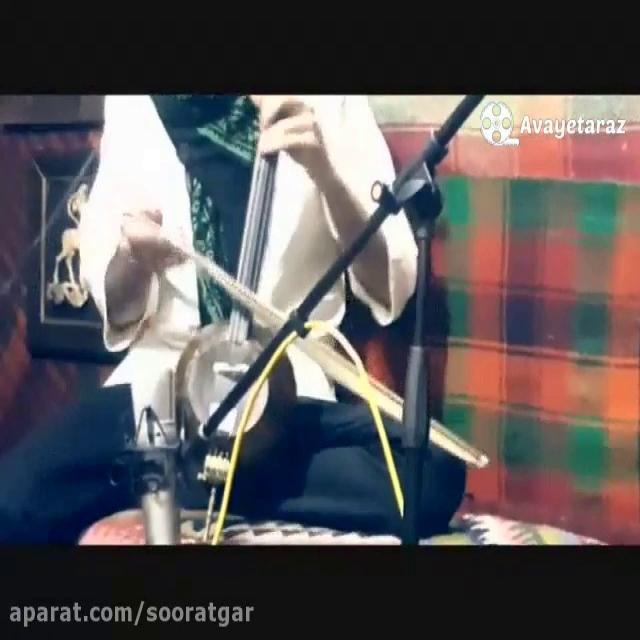Kamanche: (163, 94, 313, 498)
